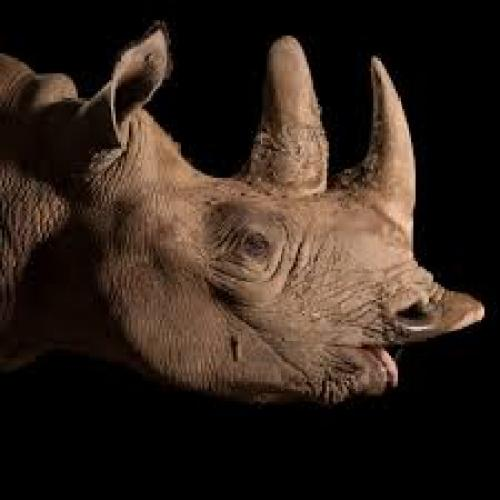rhino-endangered: (9, 28, 483, 412)
